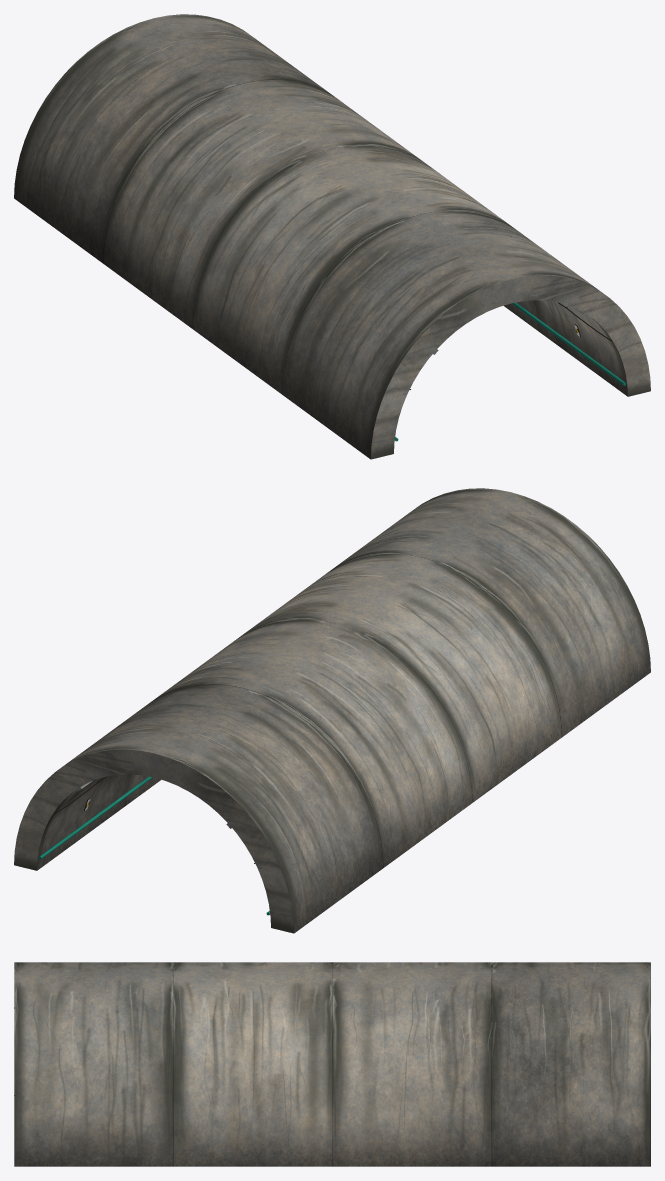
Rendered from tunnel_center_a384.fbx.
3 views of the same model, one above another, from view 1: azimuth 30°, elevation 25°; view 2: azimuth 150°, elevation 25°; view 3: azimuth 270°, elevation 25° (orthographic). The views are drawn at different scales.
Visible parts, largest first — view 1: tunnel_shell; view 2: tunnel_shell; view 3: tunnel_shell.
Part boxes in pixels (x1,y1,x2,y2): tunnel_shell: [14, 14, 650, 459]; tunnel_shell: [14, 488, 650, 933]; tunnel_shell: [14, 962, 650, 1166].
Size of the model in its own units: 330 by 164 by 728.
5 materials, 5 textured.
